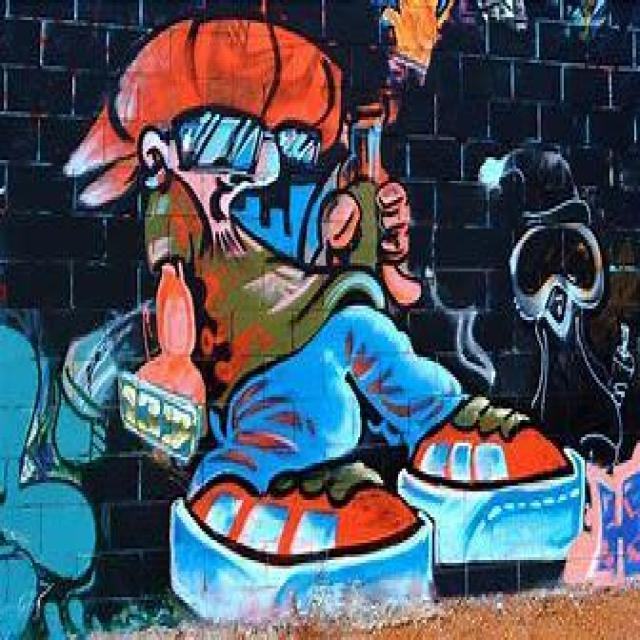nonspitting: (480, 146, 640, 462), (0, 317, 120, 640)
spitting: (66, 11, 586, 626)
